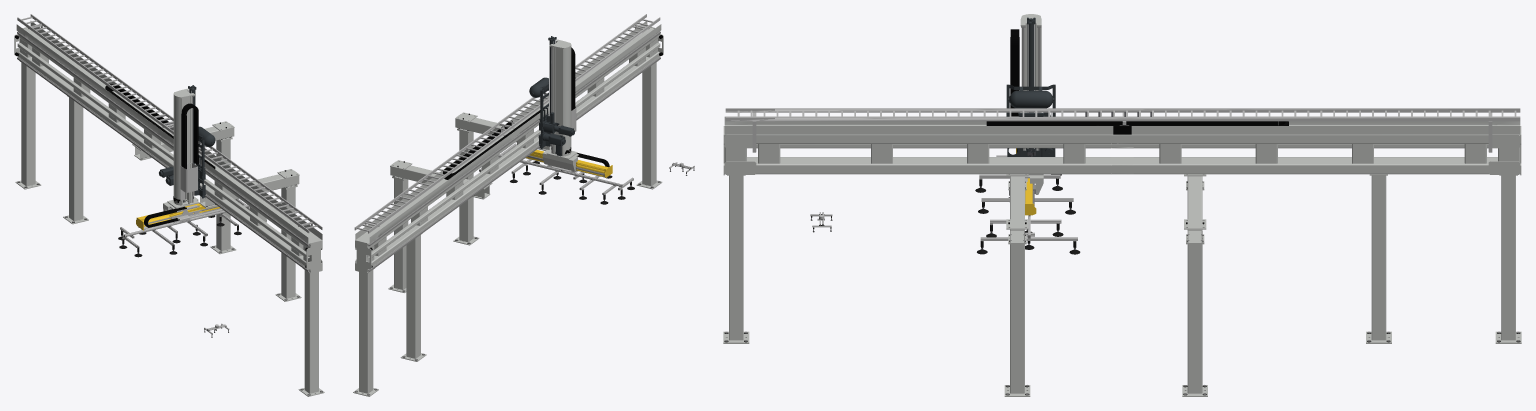
The model's file is Overhead Pick and Place.fbx.
The picture shows the model from 3 angles, left to right: view 1: azimuth 30°, elevation 25°; view 2: azimuth 150°, elevation 25°; view 3: azimuth 270°, elevation 25°; orthographic projection. The views are drawn at different scales.
Visible parts, largest first — view 1: geo_White_ava_pulver_2, geo_Aluminium_ava_pulver_4, geo_White_ava_2.005, geo_White_ava_2.006, geo_White_ava_2.004, geo_Steel_ava_pulver_3, geo_White_ava_pulver_8, geo_White_ava_2.003, geo_Dark_grey_ava_pulver_4, geo_White_ava_2.002, geo_White_ava_2.001, geo_Aluminium_ava_2 (+7 smaller); view 2: geo_White_ava_pulver_2, geo_Aluminium_ava_pulver_4, geo_White_ava_pulver_8, geo_White_ava_2.006, geo_White_ava_2.005, geo_White_ava_2.004, geo_Steel_ava_pulver_3, geo_Dark_grey_ava_pulver_4, geo_White_ava_2.003, geo_White_ava_2.002, geo_White_ava_2, geo_Aluminium_ava_2 (+3 smaller); view 3: geo_White_ava_pulver_2, geo_Aluminium_ava_pulver_4, geo_White_ava_2.004, geo_White_ava_2.005, geo_White_ava_2.006, geo_White_ava_2.002, geo_White_ava_2.003, geo_Dark_grey_ava_pulver_4, geo_Black_ava_pulver_1.001, geo_White_ava_2, geo_White_ava_2.001, geo_Aluminium_ava_2 (+1 smaller).
Part boxes in pixels (box(x1,y1,x2,y2)): geo_White_ava_pulver_2: box(14, 21, 322, 273); geo_Aluminium_ava_pulver_4: box(17, 14, 322, 233); geo_White_ava_2.005: box(298, 268, 324, 396); geo_White_ava_2.006: box(15, 61, 41, 189); geo_White_ava_2.004: box(63, 96, 88, 224); geo_Steel_ava_pulver_3: box(17, 31, 309, 271); geo_White_ava_pulver_8: box(163, 88, 199, 210); geo_White_ava_2.003: box(275, 186, 301, 301); geo_Dark_grey_ava_pulver_4: box(159, 85, 215, 198); geo_White_ava_2.002: box(210, 138, 236, 254); geo_White_ava_2.001: box(199, 169, 299, 208); geo_Aluminium_ava_2: box(120, 199, 249, 247); geo_White_ava_pulver_2: box(355, 21, 663, 273); geo_Aluminium_ava_pulver_4: box(354, 14, 660, 233); geo_White_ava_pulver_8: box(542, 39, 578, 171); geo_White_ava_2.006: box(353, 268, 378, 396); geo_White_ava_2.005: box(636, 61, 662, 189); geo_White_ava_2.004: box(400, 233, 426, 361); geo_Steel_ava_pulver_3: box(368, 31, 660, 271); geo_Dark_grey_ava_pulver_4: box(529, 36, 574, 149); geo_White_ava_2.003: box(453, 129, 479, 245); geo_White_ava_2.002: box(388, 177, 408, 292); geo_White_ava_2: box(390, 160, 492, 199); geo_Aluminium_ava_2: box(479, 143, 633, 194); geo_White_ava_pulver_2: box(723, 116, 1521, 175); geo_Aluminium_ava_pulver_4: box(725, 108, 1520, 152); geo_White_ava_2.004: box(1366, 174, 1391, 343); geo_White_ava_2.005: box(723, 175, 749, 343); geo_White_ava_2.006: box(1495, 175, 1521, 343); geo_White_ava_2.002: box(1182, 243, 1207, 396); geo_White_ava_2.003: box(1004, 243, 1030, 396); geo_Dark_grey_ava_pulver_4: box(1006, 17, 1055, 156); geo_Black_ava_pulver_1.001: box(986, 121, 1278, 125); geo_White_ava_2: box(1184, 174, 1206, 243); geo_White_ava_2.001: box(1006, 174, 1028, 243); geo_Aluminium_ava_2: box(979, 155, 1077, 240).
Size of the model in its own units: 366 by 466 by 1079.
